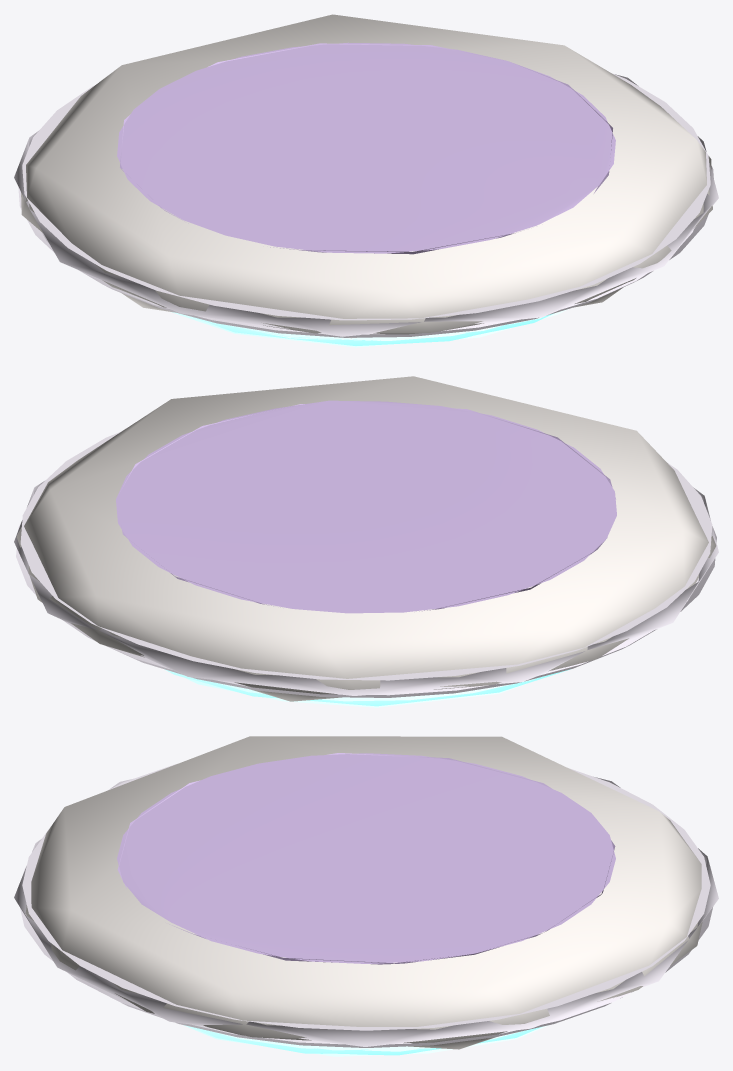
File: lod_floating_platform.glb
3 views of the same model, one above another, from view 1: azimuth 30°, elevation 25°; view 2: azimuth 150°, elevation 25°; view 3: azimuth 270°, elevation 25° (orthographic).
Visible parts, largest first — view 1: floating_platform; view 2: floating_platform; view 3: floating_platform.
Boxes of the visible parts, x1,y1,x2,y2 form: floating_platform: [14, 14, 718, 347]; floating_platform: [14, 376, 718, 707]; floating_platform: [14, 736, 718, 1056].
Bounding box in the file's own units: 3.39 × 0.7593 × 3.39.
